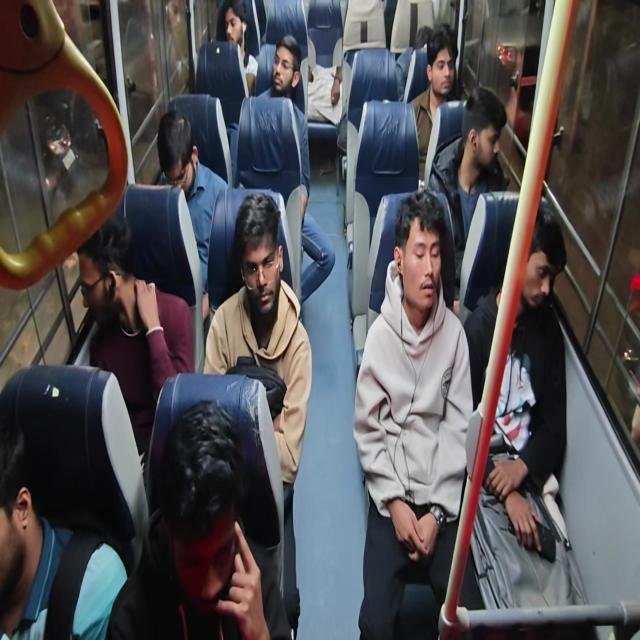person: (353, 190, 476, 638), (460, 200, 588, 618), (203, 192, 312, 636), (0, 363, 146, 639), (105, 399, 271, 639), (76, 213, 195, 470), (257, 33, 335, 304), (426, 85, 509, 276), (155, 108, 228, 320), (408, 24, 460, 184), (216, 0, 258, 98), (164, 0, 191, 96)
